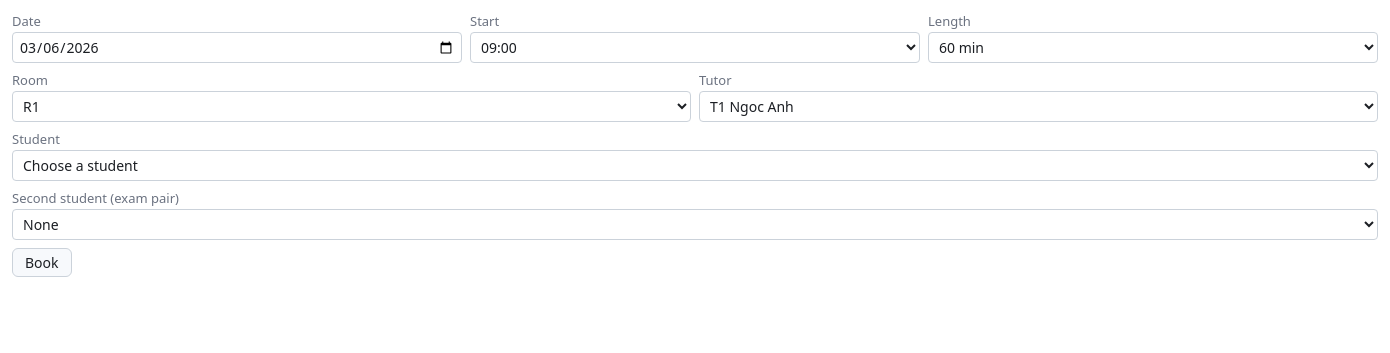
Test: CreateSessionForm › says the API cannot be reached, and keeps what was typed
This screenshot has width=1390, height=353.
Select "Vu Ha My" in the dropdown labelled "Student". click: [695, 166]
box: [12,150,1378,181]
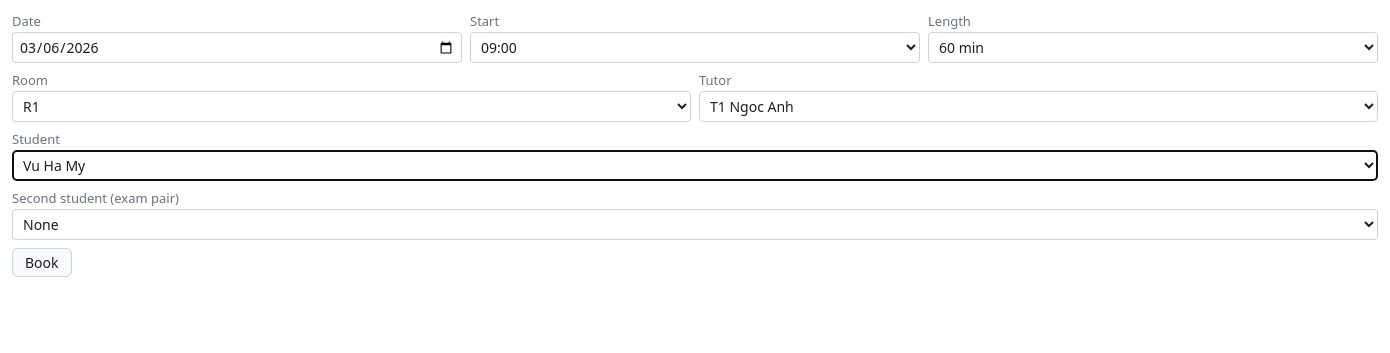
Click the button "Book". click: [42, 262]
box: [12,248,72,277]
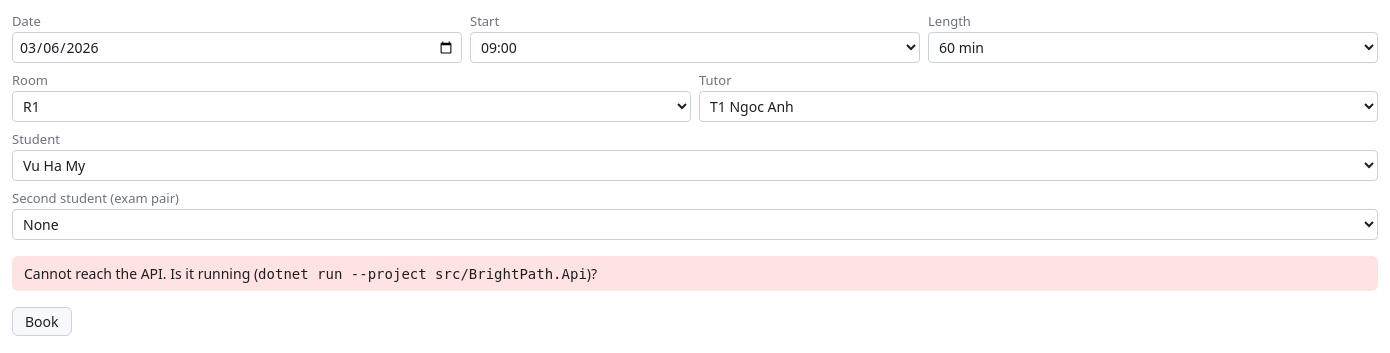
Now the message shows "Cannot reach the API.", box [24,264,258,283]
